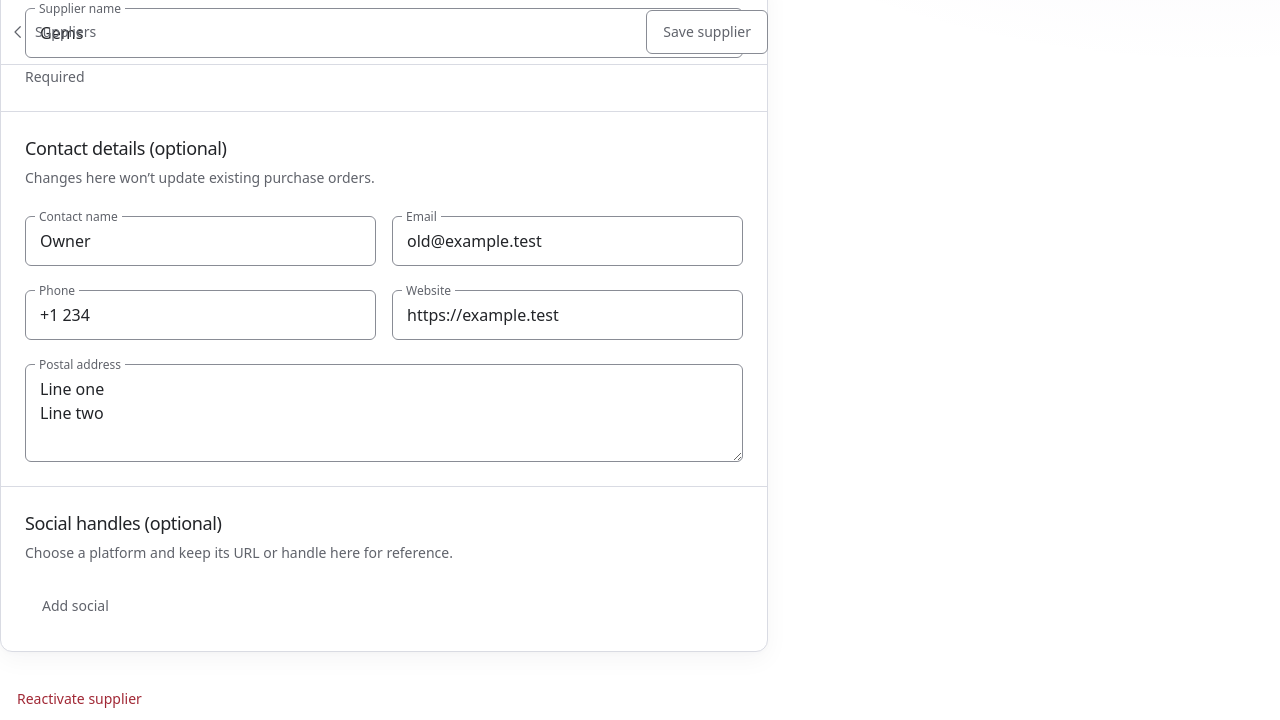
confirms and retries the correct archive operation from archived=true
The image size is (1280, 720).
(page scrolled)
Step 1. Click the button "Reactivate supplier" → (79, 698), box [0,676,159,719]
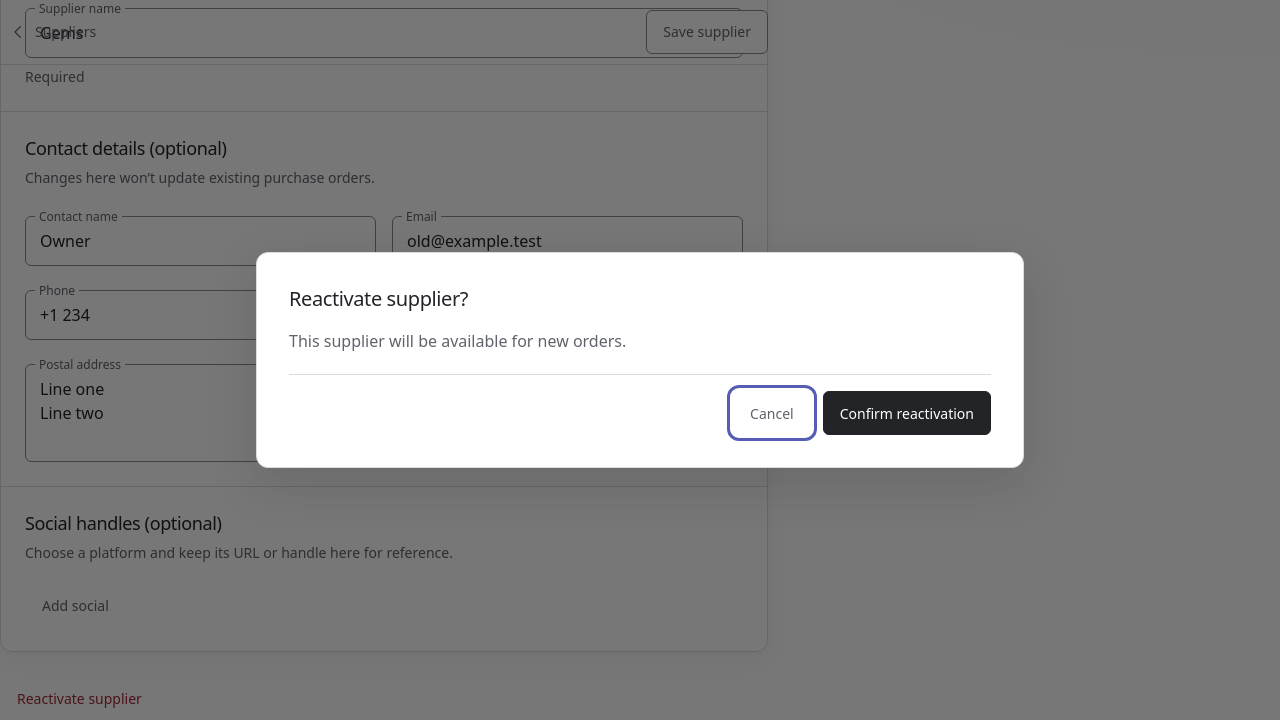
WHEN confirming and checking the unknown outcome.
Step 2. Click the button "Confirm reactivation" → (907, 413), box [823,391,991,435]
(page scrolled)
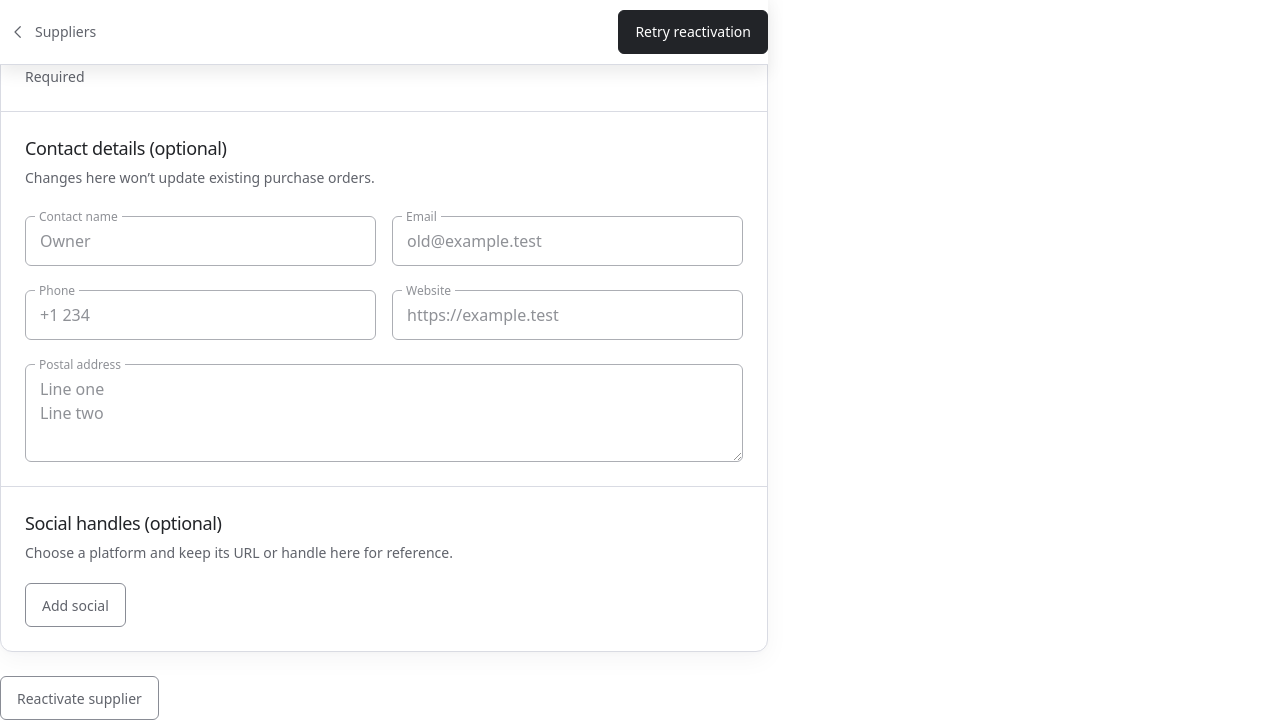
Step 3. Click the button "Retry reactivation" → (693, 32), box [618,10,768,54]
(page scrolled)
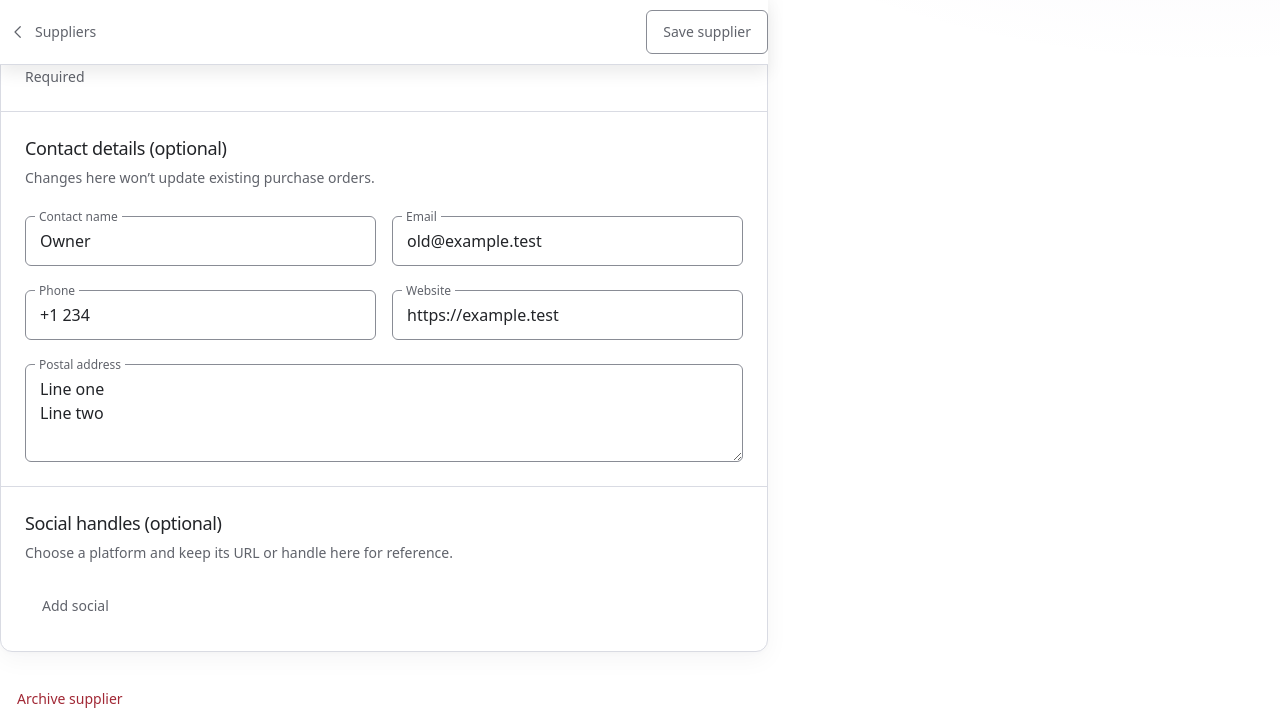
Expected: the button "Archive supplier" is shown, [0,676,140,719]
